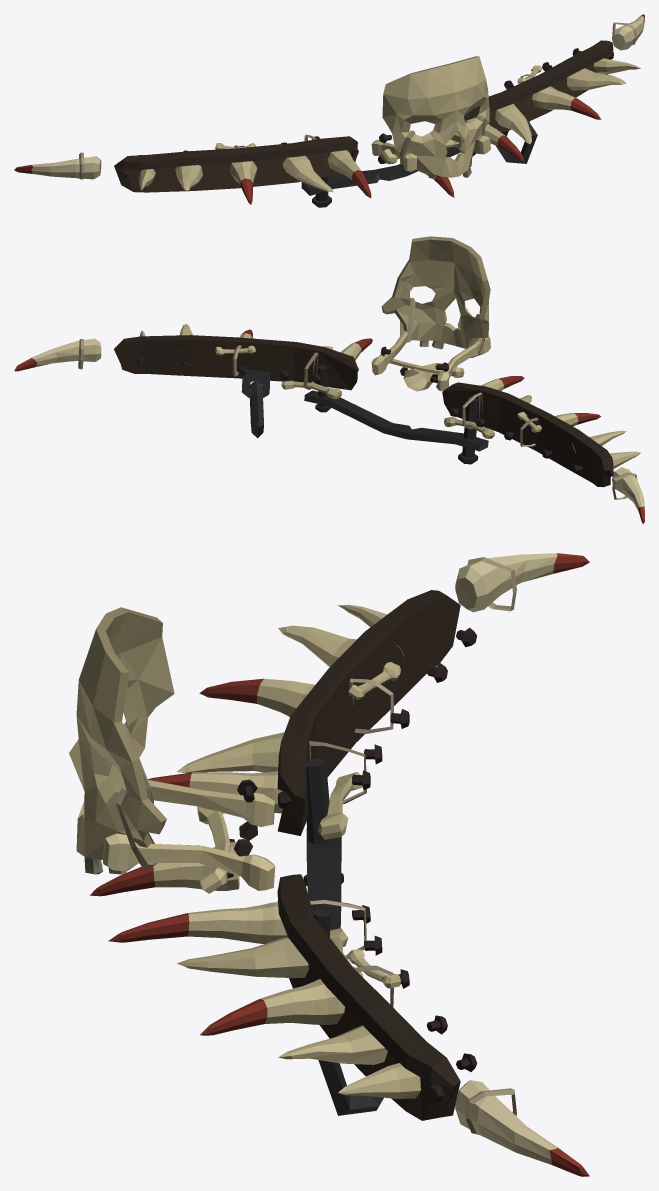
File: repeatingCrossbowFearlessTip.glb
The picture shows the model from 3 angles, top to bottom: view 1: azimuth 30°, elevation 25°; view 2: azimuth 150°, elevation 25°; view 3: azimuth 270°, elevation 25°; orthographic projection. The views are drawn at different scales.
Visible parts, largest first — view 1: repeatingCrossbowFearlessTip; view 2: repeatingCrossbowFearlessTip; view 3: repeatingCrossbowFearlessTip.
Part boxes in pixels (x1,y1,x2,y2): repeatingCrossbowFearlessTip: [14, 14, 644, 207]; repeatingCrossbowFearlessTip: [14, 236, 644, 524]; repeatingCrossbowFearlessTip: [69, 553, 589, 1176].
Size of the model in its own units: 0.8989 by 0.2455 by 0.3224.
